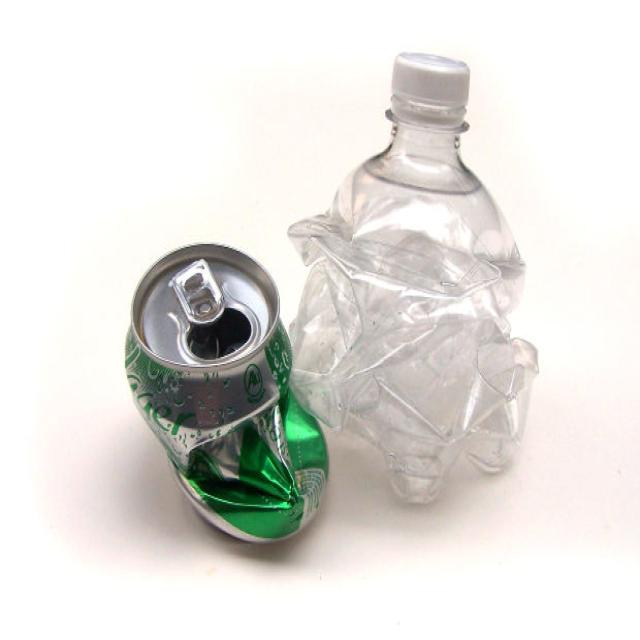metal: (101, 242, 324, 554)
plastic: (340, 44, 530, 490)
